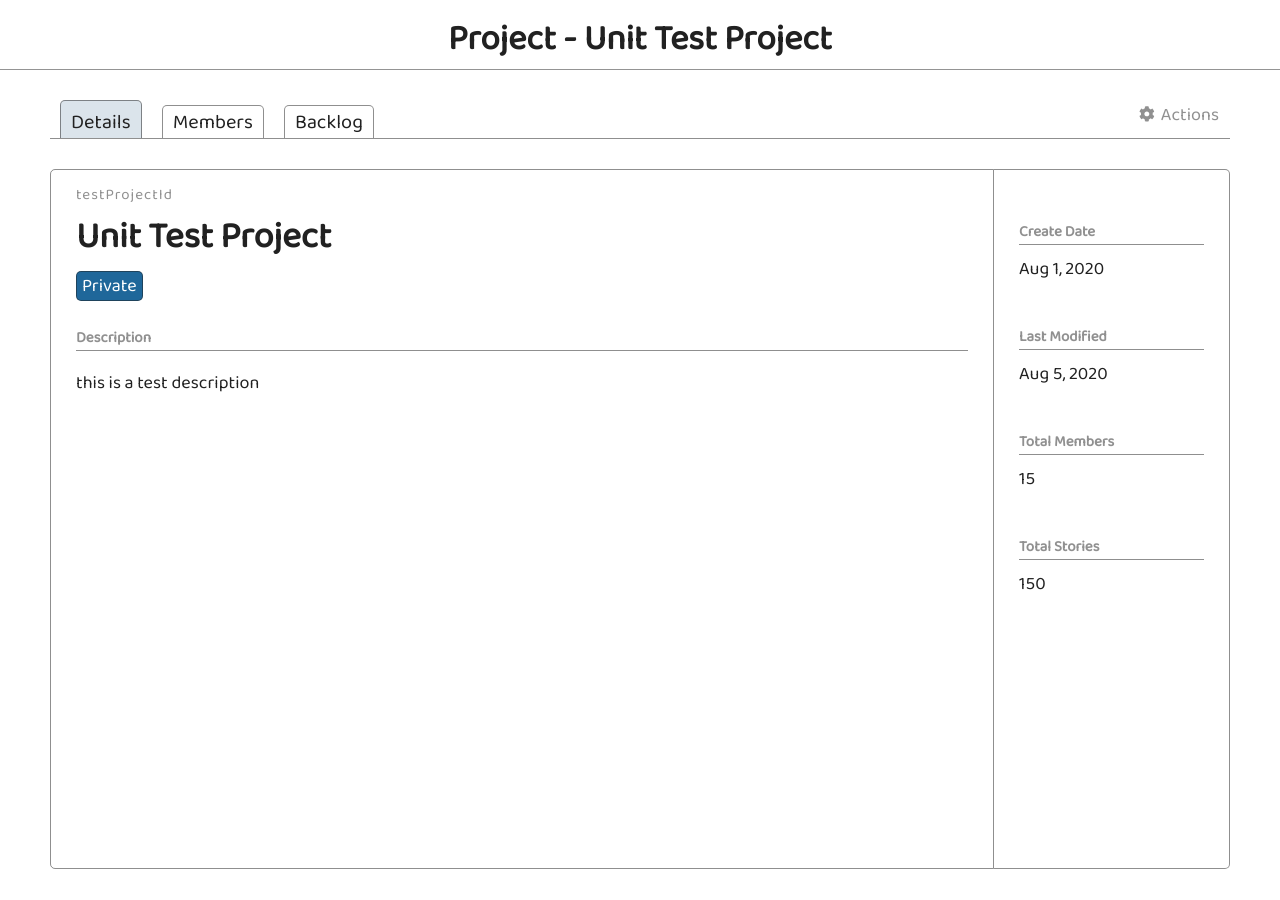
Test: <ProjectDetails /> › should show the edit membership modal if the action is clicked with sufficient permission
Click the text "Members" at [213, 122], box [162,105,264,138]
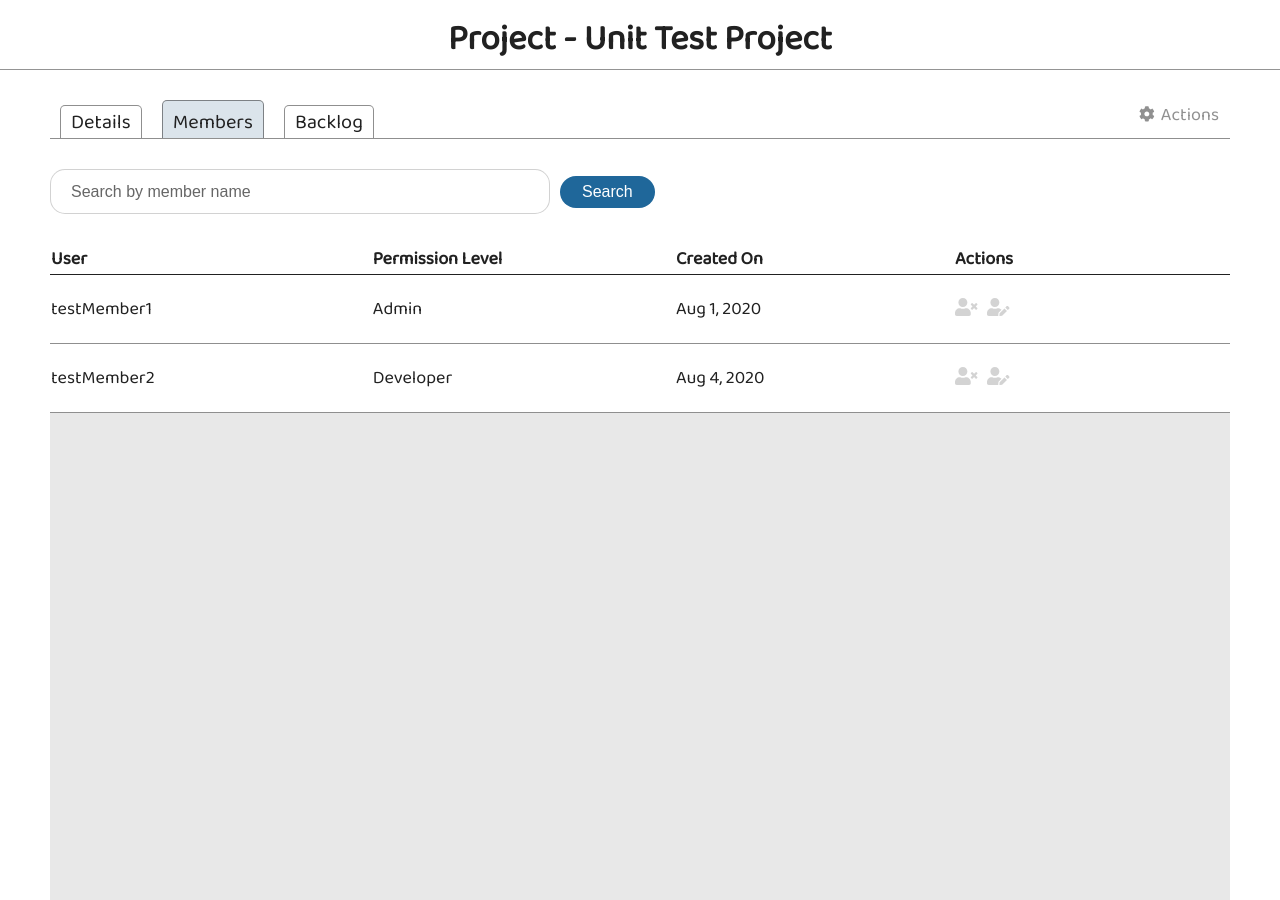
Click the 2nd element with test id "action.editMembership" at [999, 376], box [987,367,1010,385]
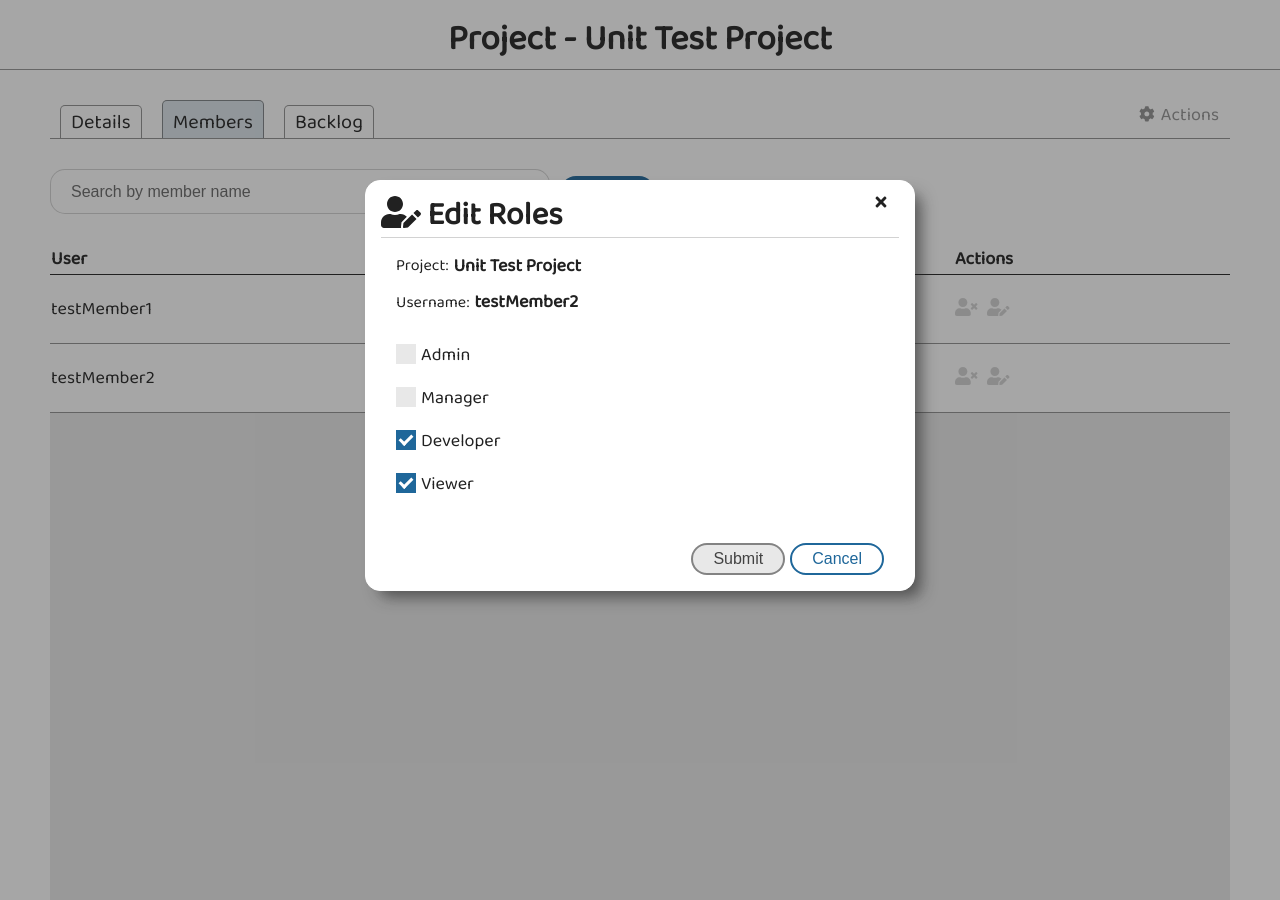
Expected: the element with test id "membershipModal.wrapper" is shown
